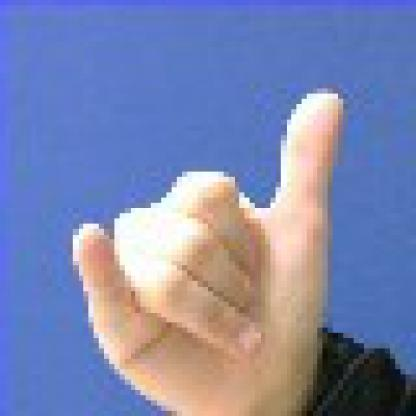six: (57, 67, 411, 410)
